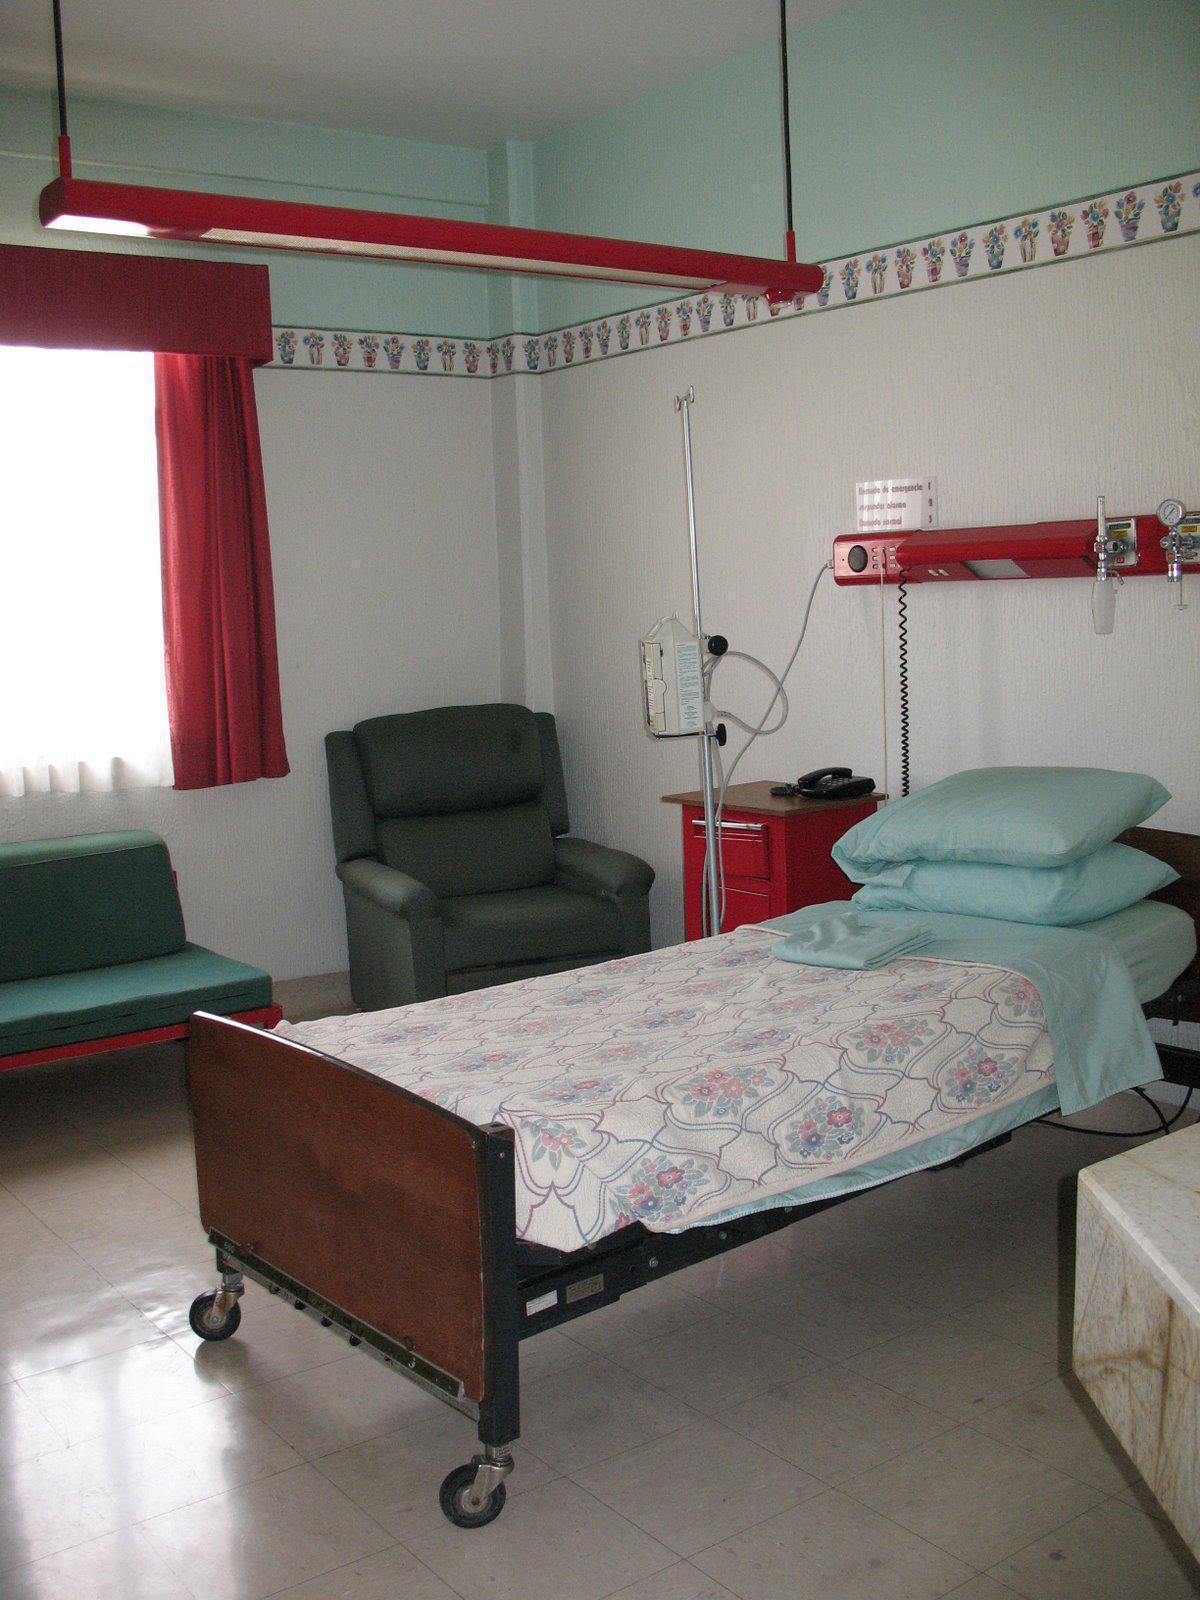Cama: (185, 776, 1185, 1483)
Ventana: (13, 304, 258, 820)
